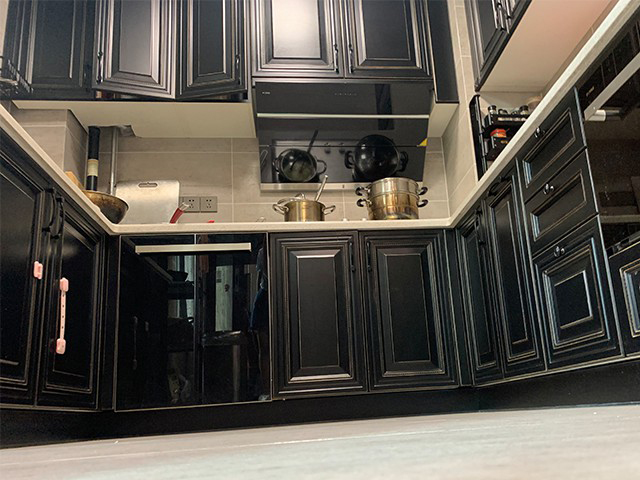cabinet: (113, 221, 464, 439), (449, 94, 626, 405), (1, 109, 111, 447)
